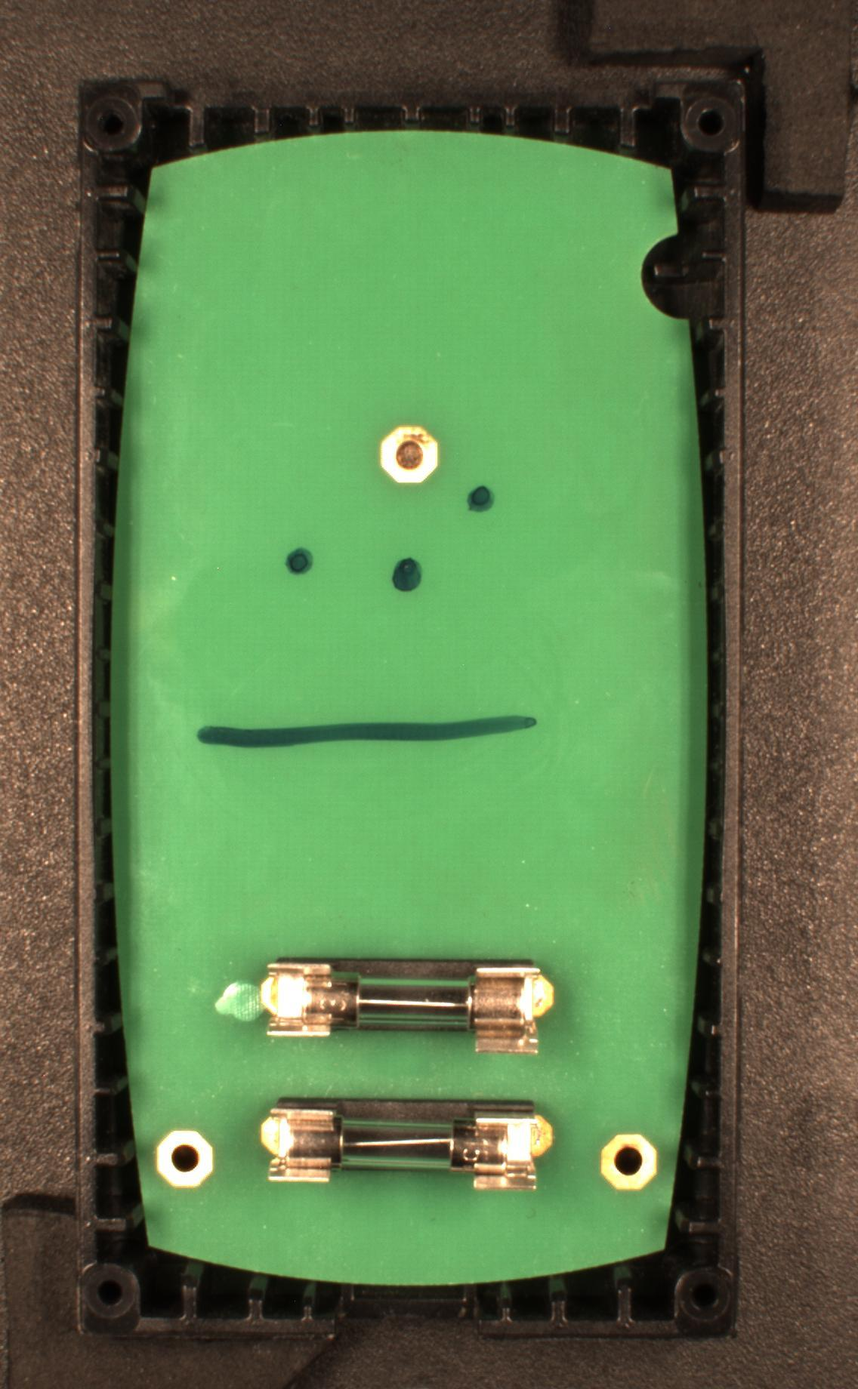Linijsko Ostecene: (196, 710, 540, 748)
Tockasto Ostecenje: (391, 556, 424, 592), (464, 483, 497, 515), (284, 546, 314, 576)
